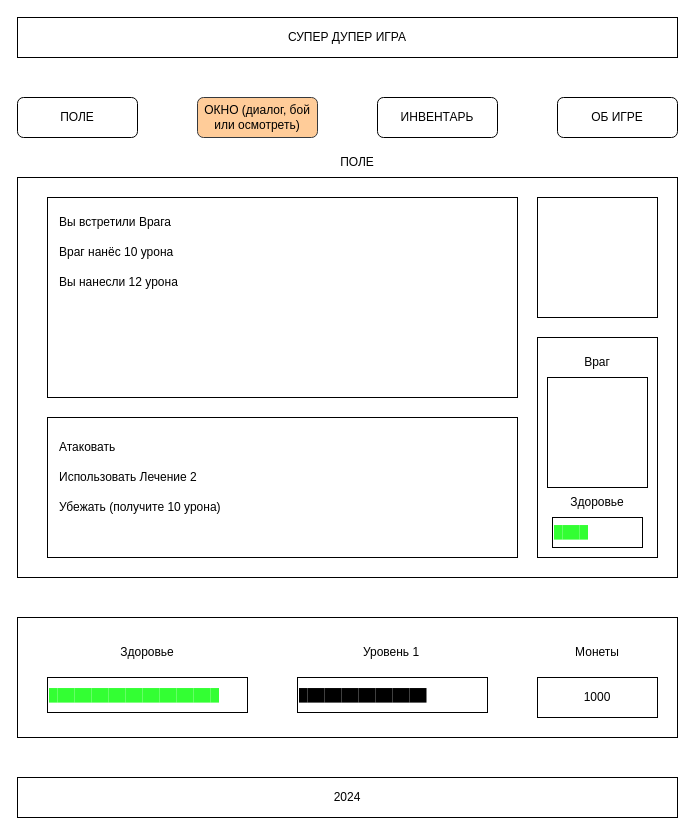
The diagram is 695 pixels wide and 835 high, and some of its shapes have lost their labels. The centre of each missing label's shape, as x and y in pixels:
Изображение: pixel 597 257
Описание: pixel 597 432
